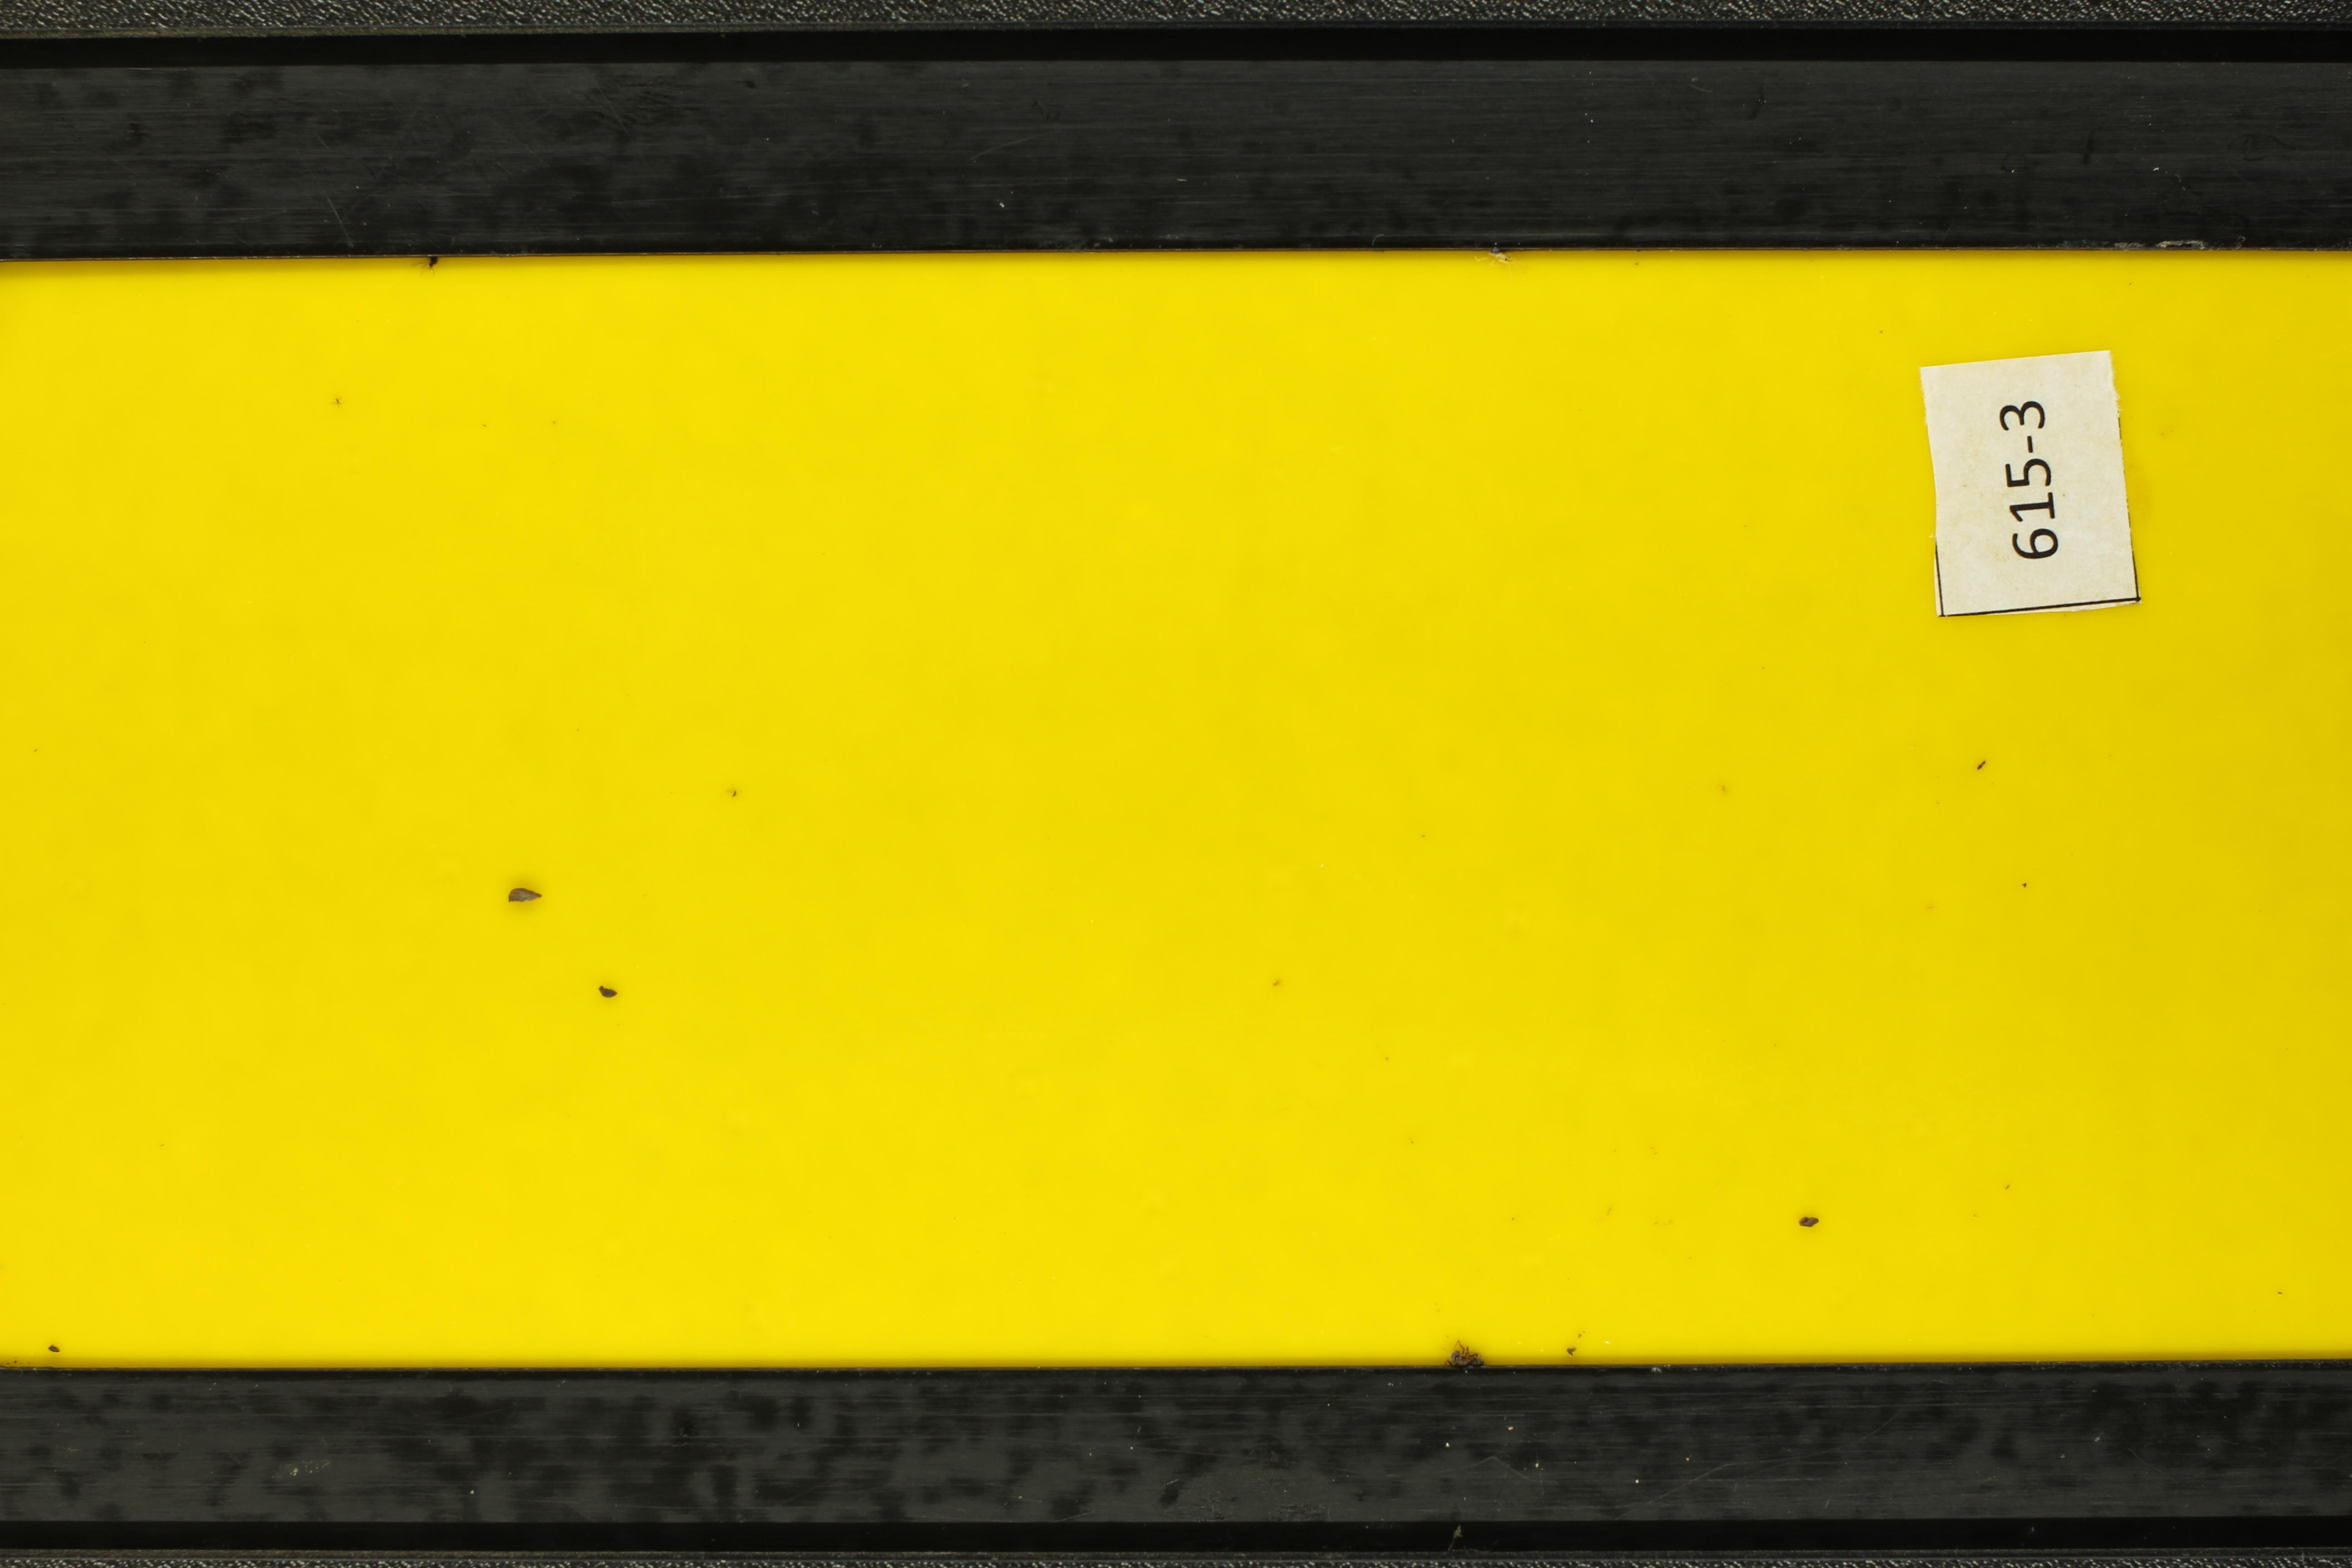WF: (1445, 1045, 1475, 1074), (1517, 1248, 1549, 1274), (1501, 906, 1533, 933), (1264, 863, 1295, 889), (724, 1106, 751, 1132), (434, 854, 462, 878), (1139, 1187, 1167, 1211), (747, 1297, 770, 1326), (1013, 1071, 1038, 1095), (1157, 1253, 1181, 1277), (1909, 1117, 1934, 1141), (600, 1236, 626, 1258), (1029, 376, 1057, 396), (1260, 465, 1286, 485), (340, 451, 362, 473), (67, 877, 89, 898), (1827, 1288, 1848, 1307)
